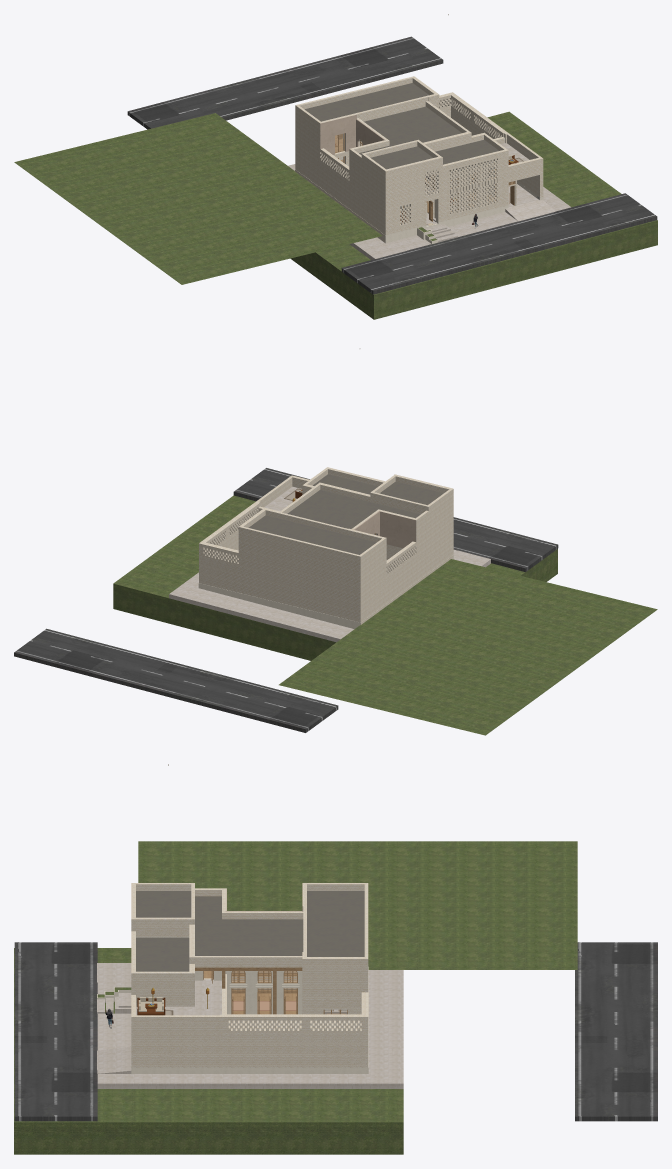
The model's file is ipakchi.glb.
3 views of the same model, one above another, from view 1: azimuth 30°, elevation 25°; view 2: azimuth 150°, elevation 25°; view 3: azimuth 270°, elevation 25° (orthographic). The views are drawn at different scales.
Visible parts, largest first — view 1: ENV_YardLawn, Перекрытие Asfalt [718105], ADSK_БалкаЖБ_Прямоугольная 400x200_3ea4509, Перекрытие ADSK_Перекрытие_Плит_235351c, Базовая стена ADSK_Внутренняя_К_d33f282, Базовая стена G'isht 90мм [876498], ADSK_КолоннаЖБ_Прямоугольная 400x_9a38a43, 1-о створчатое 400x400 [813945]; view 2: ENV_YardLawn, ADSK_БалкаЖБ_Прямоугольная 400x200_3ea4509, Перекрытие Asfalt [718105], Перекрытие ADSK_Перекрытие_Плит_235351c, Базовая стена ADSK_Внутренняя_К_d33f282, Базовая стена G'isht 90мм [876498], ADSK_КолоннаЖБ_Прямоугольная 400x_9a38a43; view 3: ENV_YardLawn, Перекрытие Asfalt [718105], ADSK_БалкаЖБ_Прямоугольная 400x200_3ea4509, Базовая стена ADSK_Внутренняя_К_d33f282, Перекрытие ADSK_Перекрытие_Плит_235351c, ADSK_КолоннаЖБ_Прямоугольная 400x_9a38a43, 1-о створчатое 400x400 [813945].
Part boxes in pixels (box(x1,y1,x2,y2)): ENV_YardLawn: box(14, 111, 657, 319); Перекрытие Asfalt [718105]: box(127, 36, 657, 294); ADSK_БалкаЖБ_Прямоугольная 400x200_3ea4509: box(295, 76, 543, 242); Перекрытие ADSK_Перекрытие_Плит_235351c: box(304, 83, 498, 172); Базовая стена ADSK_Внутренняя_К_d33f282: box(288, 138, 570, 259); Базовая стена G'isht 90мм [876498]: box(320, 114, 385, 154); ADSK_КолоннаЖБ_Прямоугольная 400x_9a38a43: box(295, 14, 543, 243); 1-о створчатое 400x400 [813945]: box(335, 133, 515, 224); ENV_YardLawn: box(113, 495, 657, 735); ADSK_БалкаЖБ_Прямоугольная 400x200_3ea4509: box(199, 467, 453, 624); Перекрытие Asfalt [718105]: box(14, 468, 558, 732); Перекрытие ADSK_Перекрытие_Плит_235351c: box(248, 474, 443, 554); Базовая стена ADSK_Внутренняя_К_d33f282: box(169, 486, 490, 642); Базовая стена G'isht 90мм [876498]: box(349, 511, 415, 548); ADSK_КолоннаЖБ_Прямоугольная 400x_9a38a43: box(198, 348, 453, 628); ENV_YardLawn: box(14, 841, 577, 1154); Перекрытие Asfalt [718105]: box(14, 942, 657, 1121); ADSK_БалкаЖБ_Прямоугольная 400x200_3ea4509: box(131, 883, 368, 1067); Базовая стена ADSK_Внутренняя_К_d33f282: box(97, 963, 403, 1088); Перекрытие ADSK_Перекрытие_Плит_235351c: box(136, 891, 364, 971); ADSK_КолоннаЖБ_Прямоугольная 400x_9a38a43: box(97, 764, 368, 1074); 1-о створчатое 400x400 [813945]: box(195, 967, 347, 1014).
Bounding box in the file's own units: 54.6 × 27.97 × 54.22.
26 materials, 26 textured.
